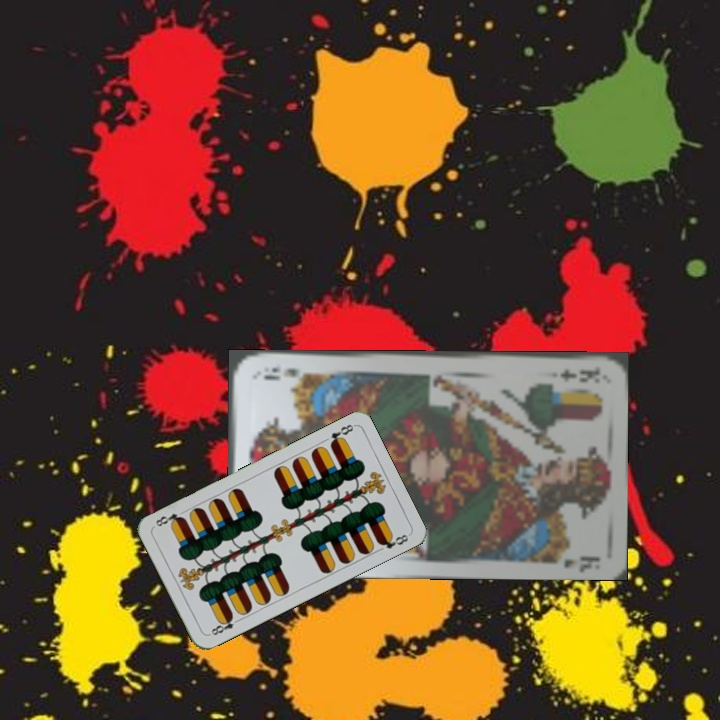E8: (205, 612, 243, 638), (326, 420, 356, 448)
EK: (555, 363, 602, 385)
